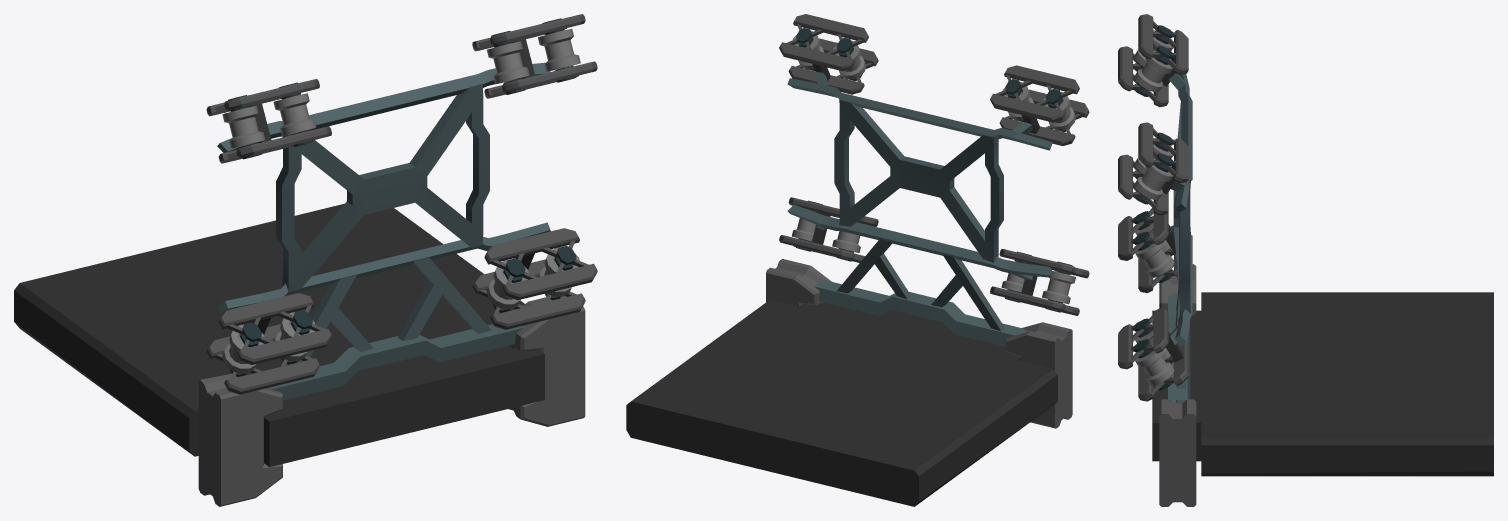
The model's file is SM_elevator_horizontal.fbx.
The picture shows the model from 3 angles, left to right: view 1: azimuth 30°, elevation 25°; view 2: azimuth 150°, elevation 25°; view 3: azimuth 270°, elevation 25°; orthographic projection. The views are drawn at different scales.
Parts seen in each view (by area): view 1: SM_elevator_horizontal; view 2: SM_elevator_horizontal; view 3: SM_elevator_horizontal.
Boxes of the visible parts, x1=… form: SM_elevator_horizontal: x1=14, y1=14, x2=597, y2=506; SM_elevator_horizontal: x1=626, y1=14, x2=1089, y2=506; SM_elevator_horizontal: x1=1118, y1=14, x2=1493, y2=506.
Bounding box in the file's own units: 302 × 323 × 317.
1 material, 1 textured.
